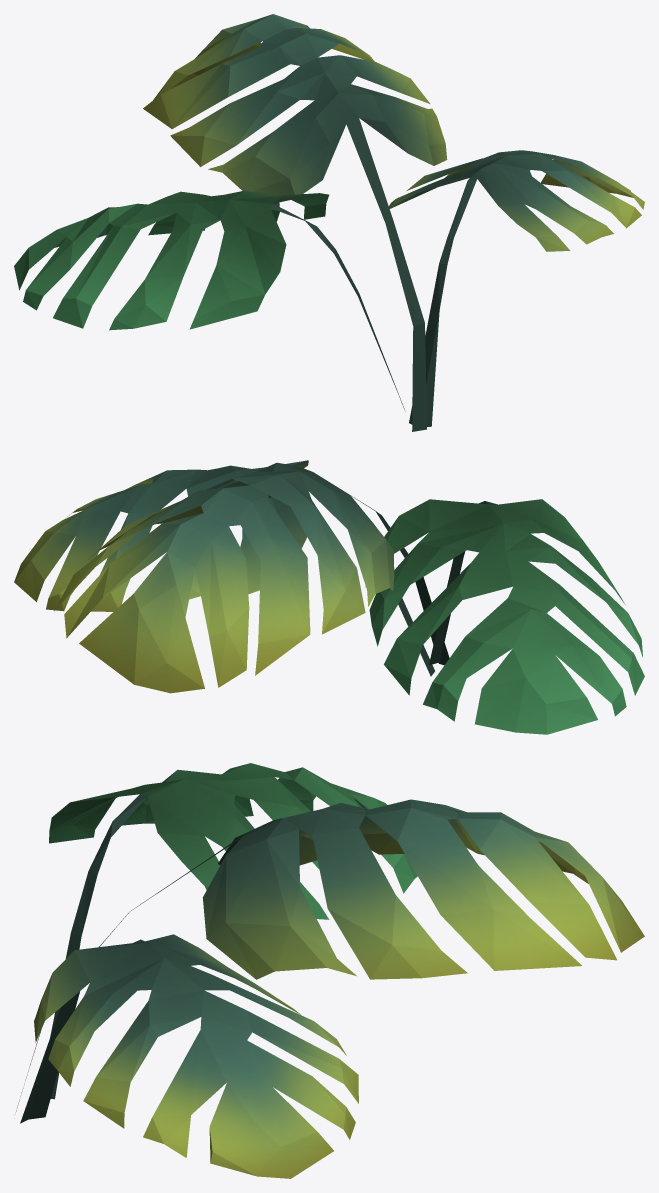
The model's file is Jungle_RoundLeaf_D.fbx.
3 renders of one model, top to bottom at view 1: azimuth 30°, elevation 25°; view 2: azimuth 150°, elevation 25°; view 3: azimuth 270°, elevation 25°, orthographic. The views are drawn at different scales.
Parts seen in each view (by area): view 1: Jungle_RoundLeaf_D; view 2: Jungle_RoundLeaf_D; view 3: Jungle_RoundLeaf_D.
Boxes of the visible parts, bbox=[...] form: Jungle_RoundLeaf_D: bbox=[14, 14, 644, 431]; Jungle_RoundLeaf_D: bbox=[14, 460, 644, 734]; Jungle_RoundLeaf_D: bbox=[16, 763, 644, 1178].
Bounding box in the file's own units: 2.62 × 1.19 × 2.02.
